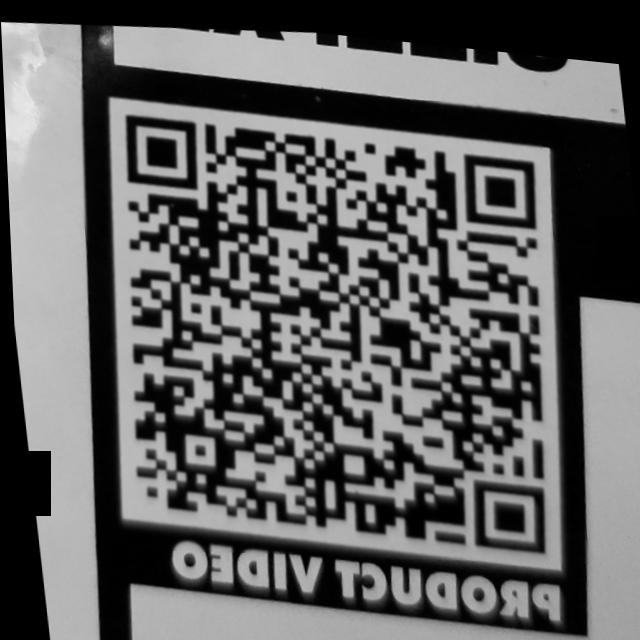QR_CODE: (67, 53, 586, 584)
